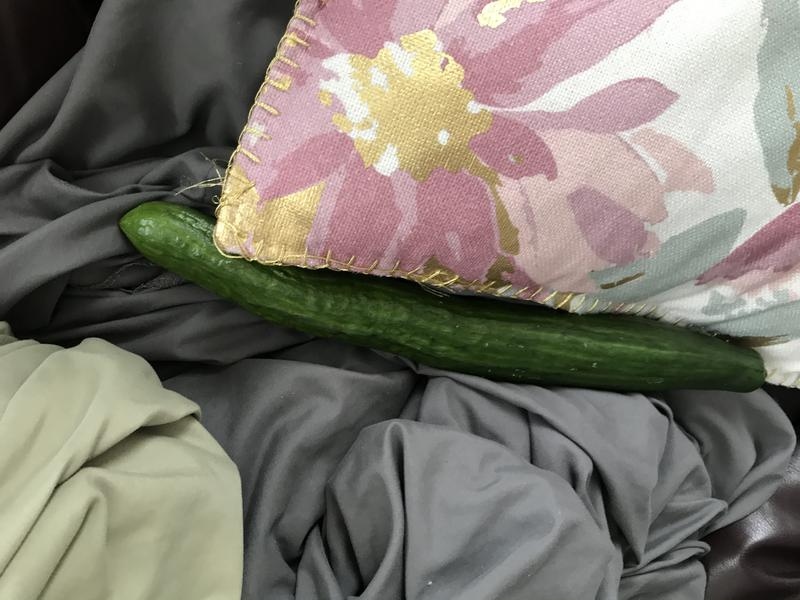cucumber: (116, 185, 778, 408)
